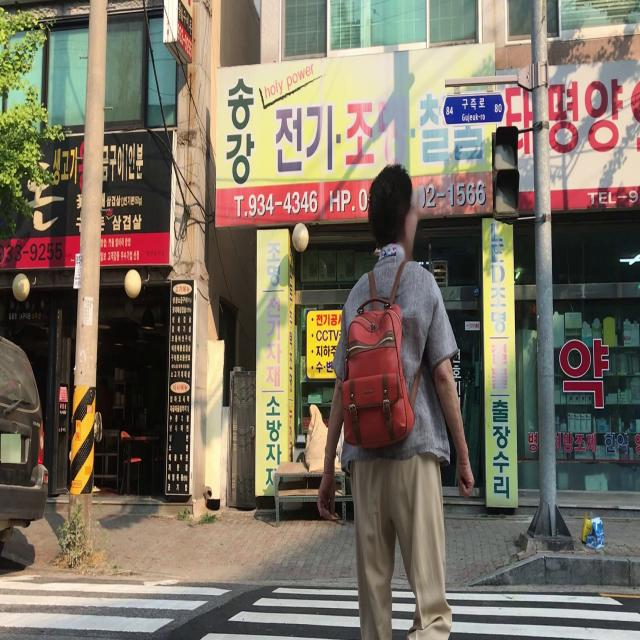횡단보도: (0, 580, 640, 640)
